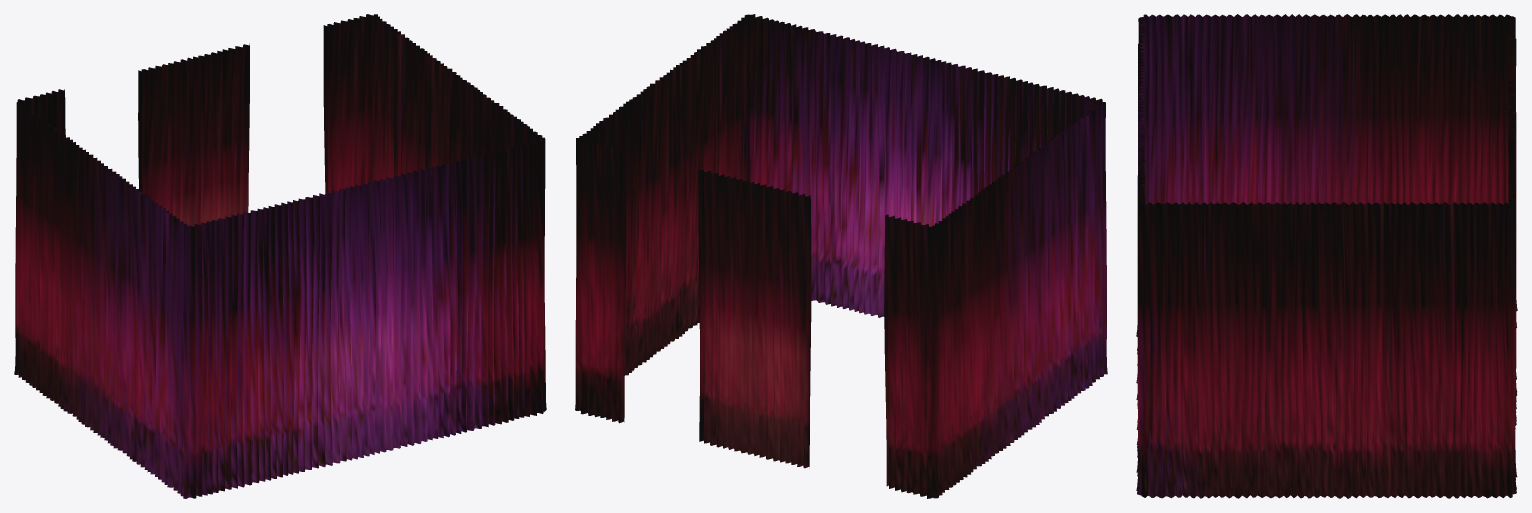
File: dream-curtains.glb
3 views of the same model, side by side, from view 1: azimuth 30°, elevation 25°; view 2: azimuth 150°, elevation 25°; view 3: azimuth 270°, elevation 25° (orthographic). The views are drawn at different scales.
Visible parts, largest first — view 1: dream-curtains | F drape; view 2: dream-curtains | F drape; view 3: dream-curtains | F drape.
Part boxes in pixels (<box>): dream-curtains | F drape: <box>14,14,546,498</box>; dream-curtains | F drape: <box>575,14,1107,498</box>; dream-curtains | F drape: <box>1136,14,1517,498</box>.
Bounding box in the file's own units: 9.87 × 7 × 8.26.
